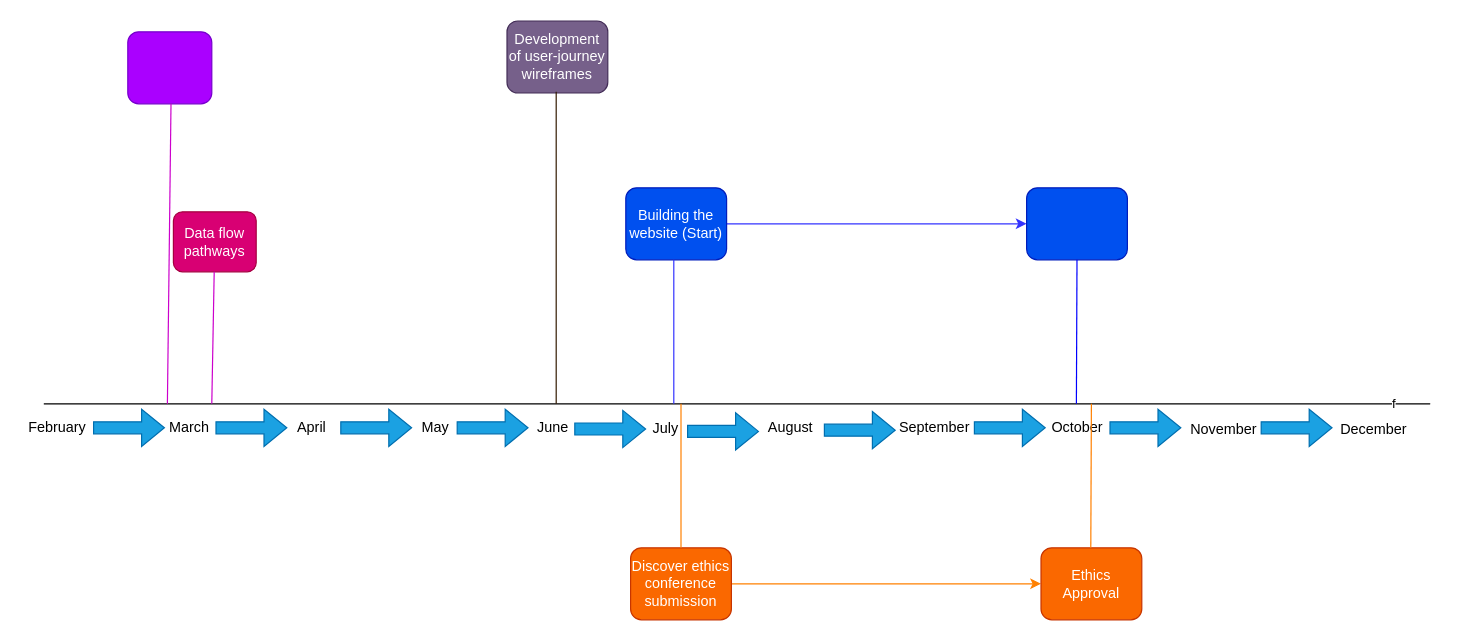
Some shapes in this 1458 by 641 pixel diagram are drawn without their labels. Here are the shapes that lost their labels. From the top down, the centre of each, then its label:
At (169,67): "Release focus group data".
At (1076,223): "Building the website (Complete)".
